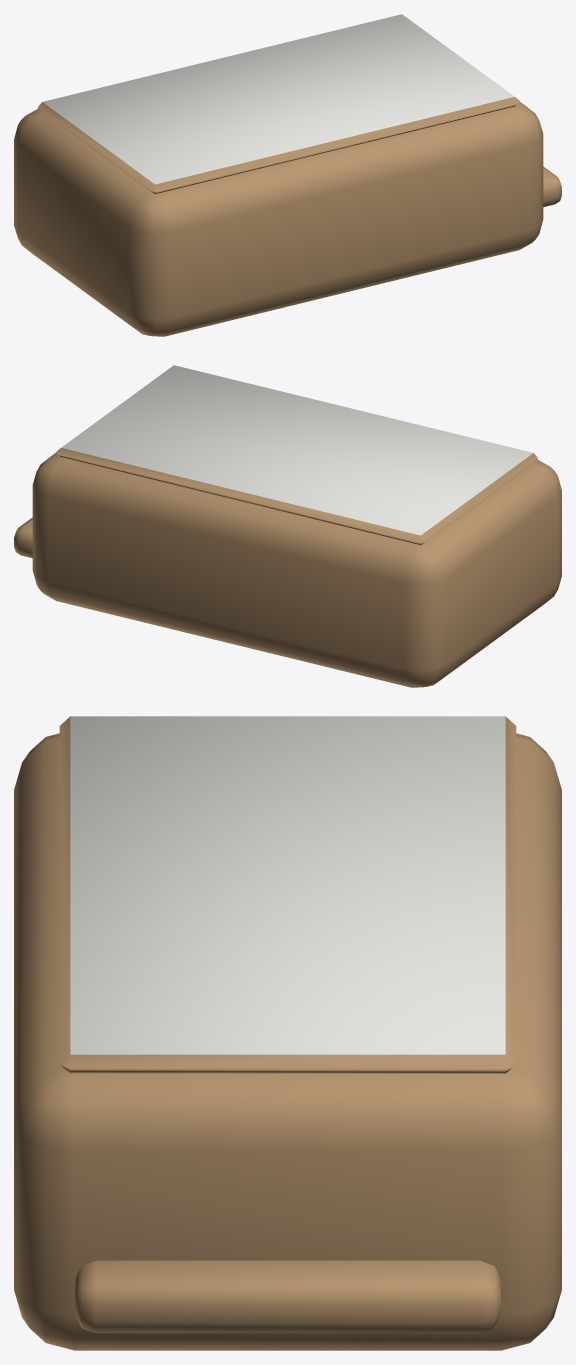
The model's file is SM_ArmyCounter.fbx.
3 views of the same model, one above another, from view 1: azimuth 30°, elevation 25°; view 2: azimuth 150°, elevation 25°; view 3: azimuth 270°, elevation 25° (orthographic). The views are drawn at different scales.
Visible parts, largest first — view 1: SM_ArmyCounter; view 2: SM_ArmyCounter; view 3: SM_ArmyCounter.
Boxes of the visible parts, <box> form: SM_ArmyCounter: <box>14,14,561,336</box>; SM_ArmyCounter: <box>14,365,561,687</box>; SM_ArmyCounter: <box>14,716,561,1350</box>.
Size of the model in its own units: 6.4 by 2.12 by 3.6.
